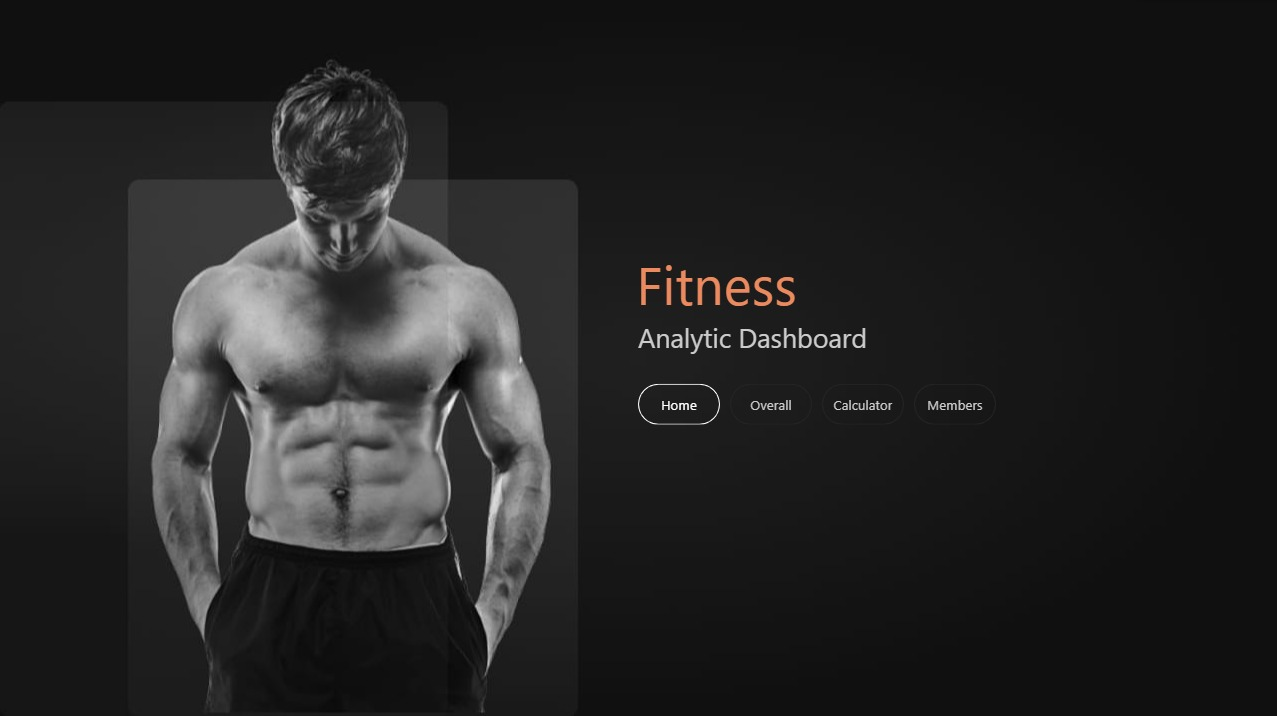

This screenshot's page, from the dashboard's own definition file:
{"tool":"powerbi","page":{"name":"Home","canvas":[1280,720],"ordinal":0},"visuals":[{"type":"shape","box":[622.5,245,192.5,76.2],"z":0},{"type":"shape","box":[640,298.8,245,76.2],"z":1000},{"type":"pageNavigator","box":[640,383.8,358.8,41.2],"z":2000}]}

Visuals, with their boxes in screenshot pixels (x1, y1, x2, y2), scaled from the page's 1280x720 canvas onto the 1277x716 screenshot:
shape: (x1=621, y1=244, x2=813, y2=319)
shape: (x1=638, y1=297, x2=883, y2=373)
pageNavigator: (x1=638, y1=382, x2=996, y2=423)
